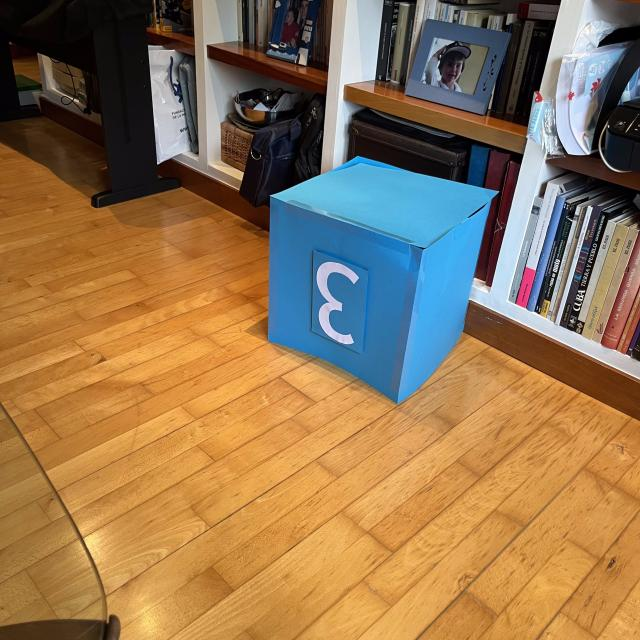box: (262, 152, 499, 406)
